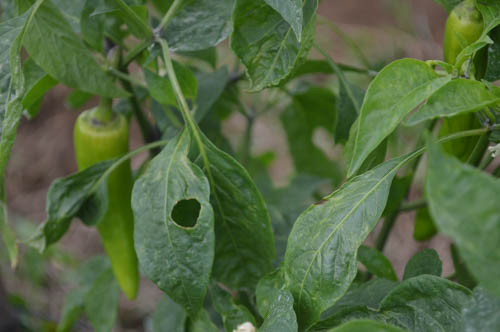ChiliPepper: (415, 16, 479, 249), (70, 116, 142, 301)
